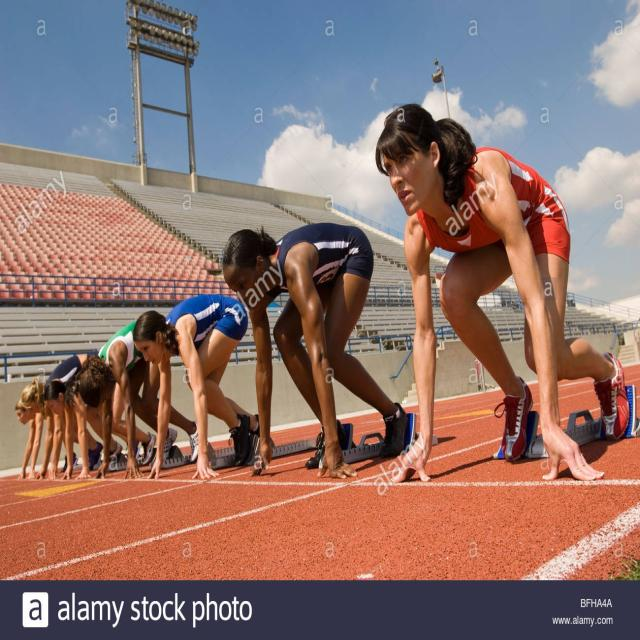body: (372, 100, 630, 488), (222, 223, 409, 482), (132, 293, 260, 483), (80, 316, 202, 484), (21, 350, 105, 483), (44, 377, 122, 481), (15, 396, 44, 480)
